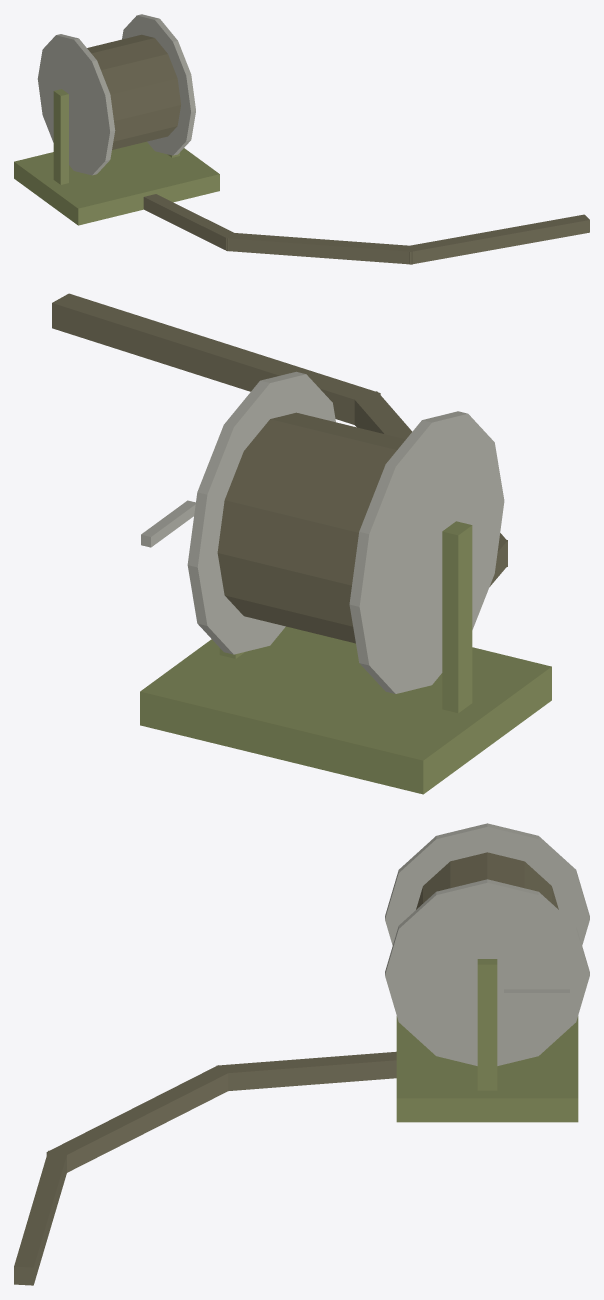
Rendered from SM_Carrete_v1_Lleno_LOD0.fbx.
The picture shows the model from 3 angles, top to bottom: view 1: azimuth 30°, elevation 25°; view 2: azimuth 150°, elevation 25°; view 3: azimuth 270°, elevation 25°; orthographic projection. The views are drawn at different scales.
Parts seen in each view (by area): view 1: SM_farp_betera_v11_LOD0; view 2: SM_farp_betera_v11_LOD0; view 3: SM_farp_betera_v11_LOD0.
Boxes of the visible parts, <box> form: SM_farp_betera_v11_LOD0: <box>14,14,589,264</box>; SM_farp_betera_v11_LOD0: <box>52,293,551,794</box>; SM_farp_betera_v11_LOD0: <box>14,823,589,1285</box>.
Bounding box in the file's own units: 3.74 × 1.47 × 3.48.
